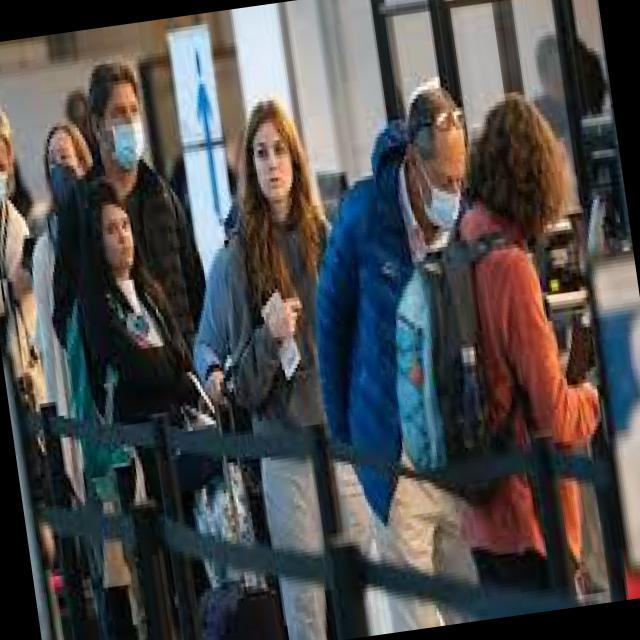Jacket: (399, 219, 631, 531), (289, 146, 490, 493), (178, 193, 366, 458), (31, 148, 202, 350), (78, 245, 204, 464)
